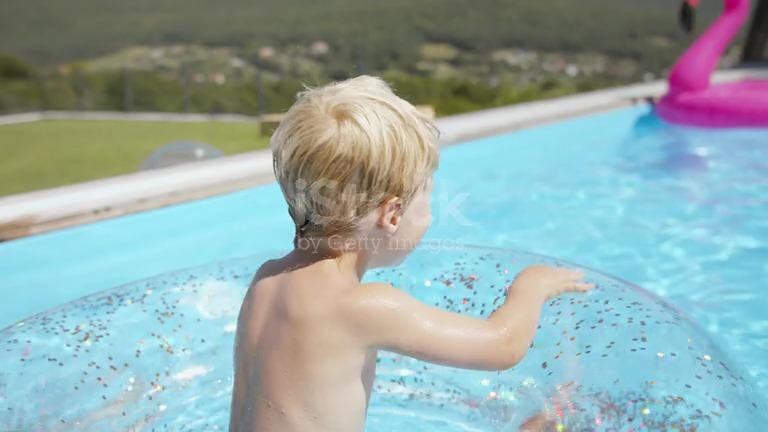Swimming: (63, 51, 768, 432)
